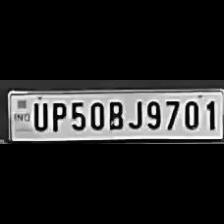0: (180, 97, 200, 130), (87, 98, 105, 130)
1: (202, 98, 218, 132)
5: (68, 98, 86, 132)
7: (161, 97, 179, 131)
9: (142, 96, 162, 130)
B: (105, 97, 124, 130)
J: (126, 96, 144, 130)
P: (48, 100, 66, 132)
U: (28, 98, 48, 132)
